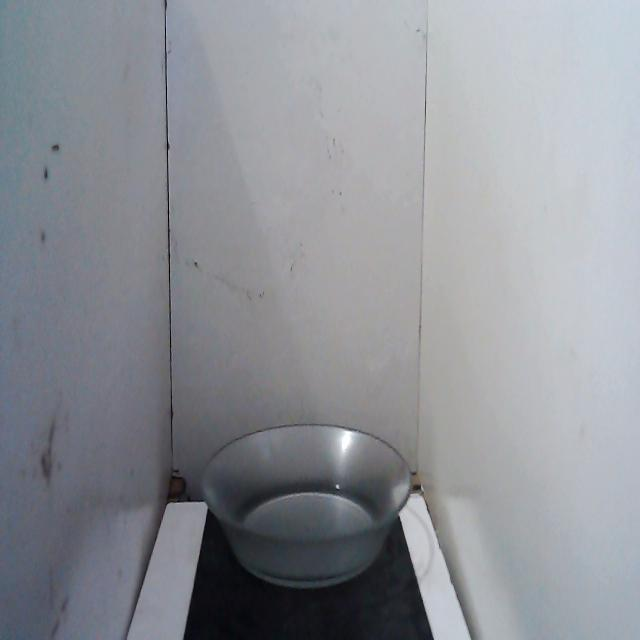vidro: (195, 408, 419, 598)
